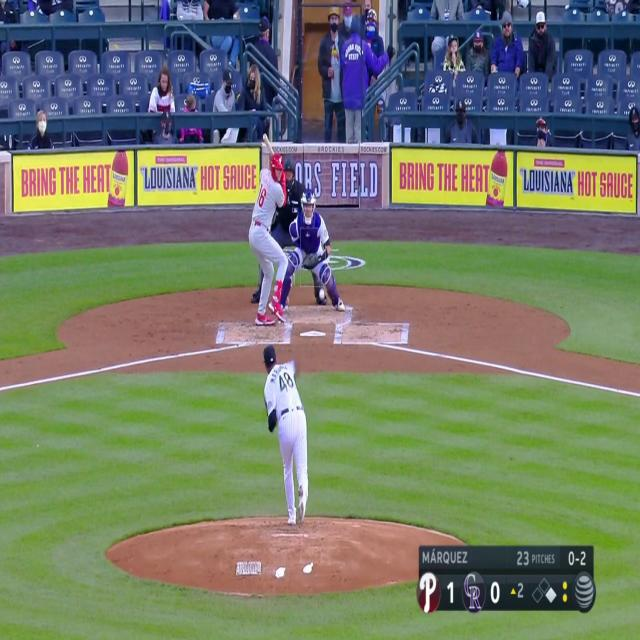baseball: (318, 288, 326, 301)
